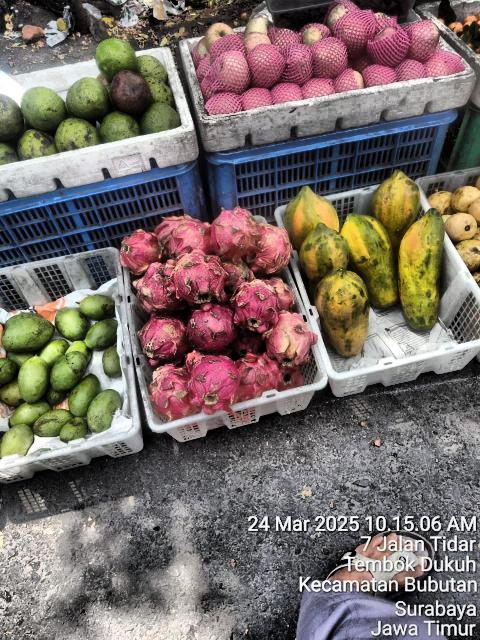buah-naga-belum-matang: (267, 312, 317, 364), (250, 222, 294, 274), (260, 274, 304, 314), (220, 260, 258, 288)
buah-naga-matang: (184, 353, 241, 409), (136, 309, 188, 363), (208, 204, 256, 262), (170, 255, 230, 301), (229, 280, 281, 332), (150, 364, 194, 420), (134, 266, 184, 314), (187, 306, 241, 350), (236, 353, 280, 397), (118, 230, 158, 270), (164, 227, 208, 260), (234, 332, 265, 356)
